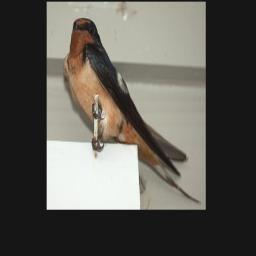Swallow: (68, 16, 203, 200)
